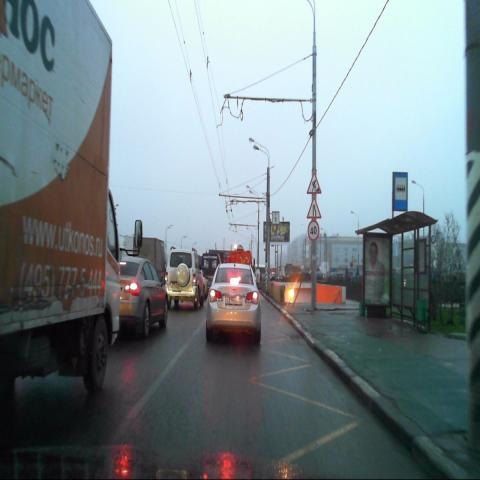1_20_2: (307, 195, 321, 218)
